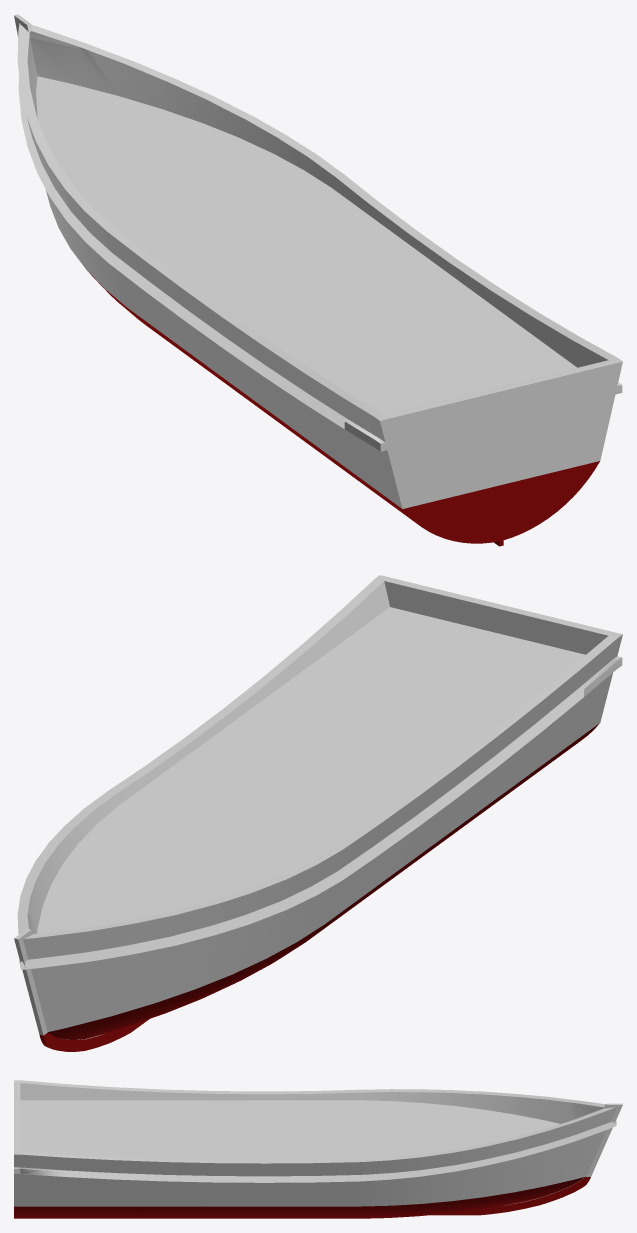
The model's file is barco.fbx.
3 views of the same model, one above another, from view 1: azimuth 30°, elevation 25°; view 2: azimuth 150°, elevation 25°; view 3: azimuth 270°, elevation 25° (orthographic). The views are drawn at different scales.
Parts seen in each view (by area): view 1: Barco_Auxiliar1; view 2: Barco_Auxiliar1; view 3: Barco_Auxiliar1.
Part boxes in pixels (x1=…): Barco_Auxiliar1: x1=14, y1=14, x2=622, y2=546; Barco_Auxiliar1: x1=14, y1=575, x2=622, y2=1051; Barco_Auxiliar1: x1=14, y1=1080, x2=622, y2=1218.
Size of the model in its own units: 375 by 259 by 1298.
